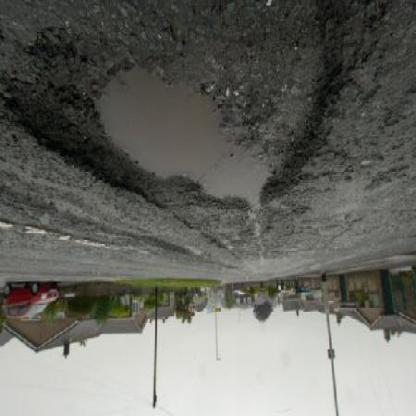pothole: (1, 2, 347, 220)
